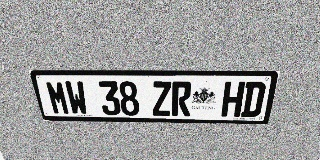3: (98, 81, 121, 115)
8: (118, 81, 140, 116)
D: (240, 82, 267, 117)
H: (221, 82, 245, 117)
M: (45, 81, 71, 115)
R: (172, 81, 192, 116)
W: (64, 81, 89, 115)
Z: (152, 81, 171, 116)
